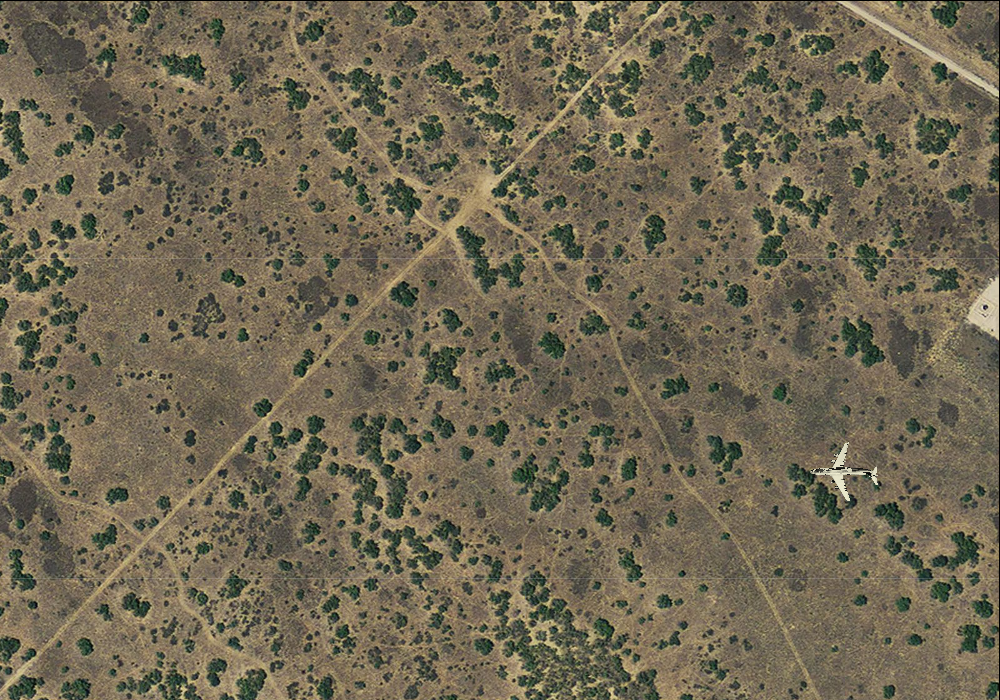plane: (810, 440, 879, 506)
